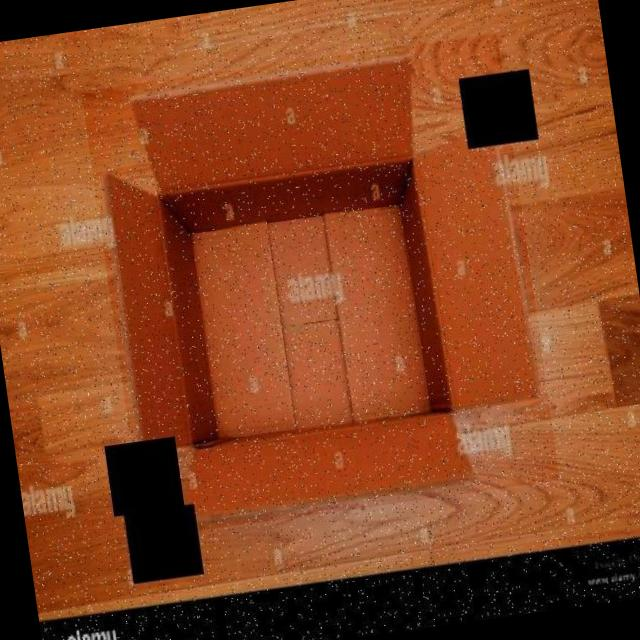box: (81, 32, 560, 538)
